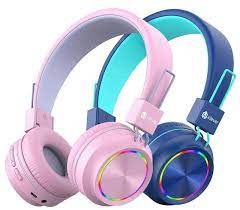headphone: (8, 8, 172, 210), (86, 1, 240, 204)
